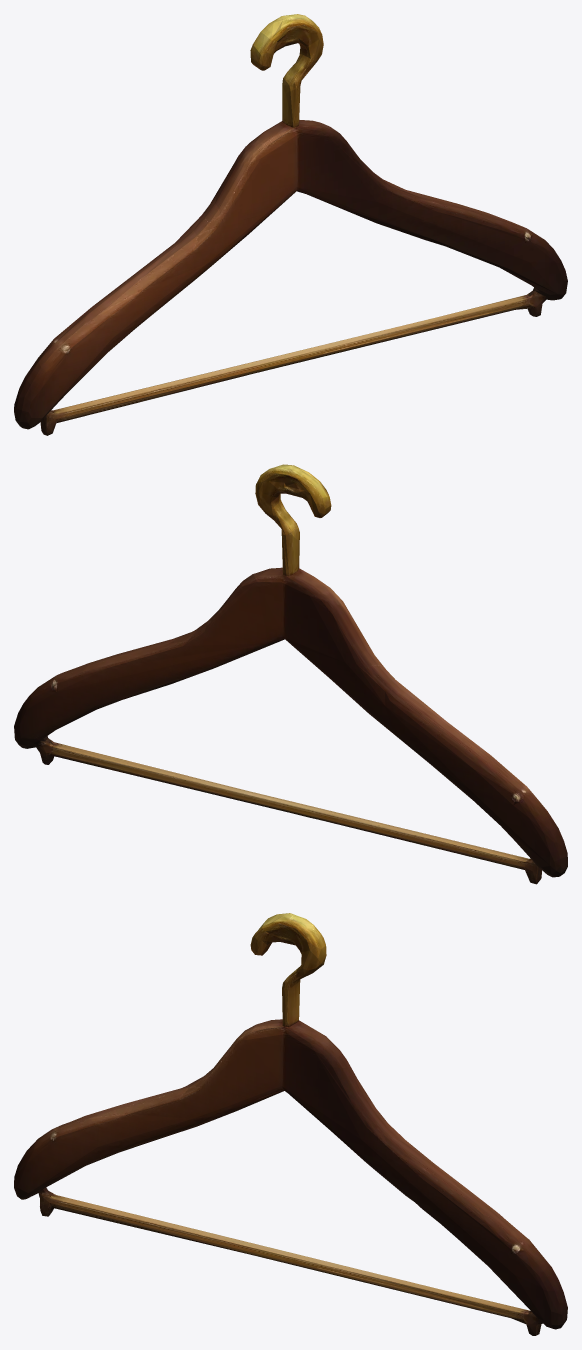
File: chair_orange.glb
3 views of the same model, one above another, from view 1: azimuth 30°, elevation 25°; view 2: azimuth 150°, elevation 25°; view 3: azimuth 330°, elevation 25° (orthographic).
Parts seen in each view (by area): view 1: geometry_0; view 2: geometry_0; view 3: geometry_0.
Part boxes in pixels (box(x1,y1,x2,y2)): geometry_0: box(14, 14, 567, 435); geometry_0: box(14, 464, 567, 884); geometry_0: box(14, 913, 567, 1335).
Bounding box in the file's own units: 0.9985 × 0.623 × 0.0481.
Materials: 1 (1 with a texture image).
